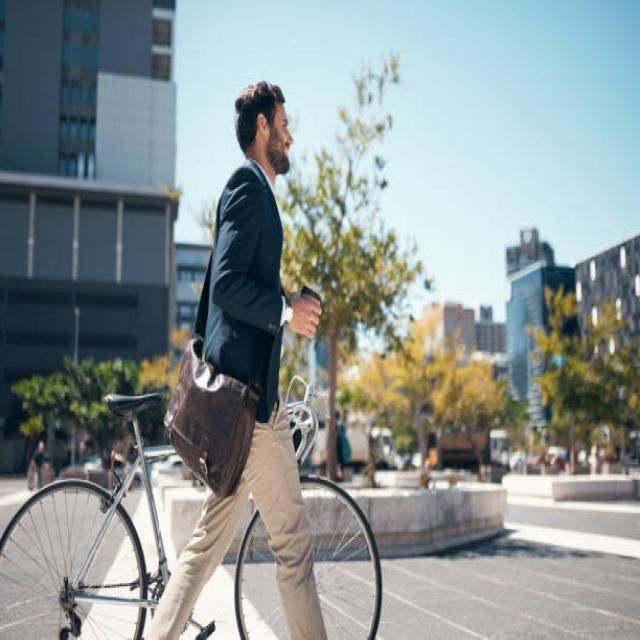bicycle: (0, 81, 381, 639)
